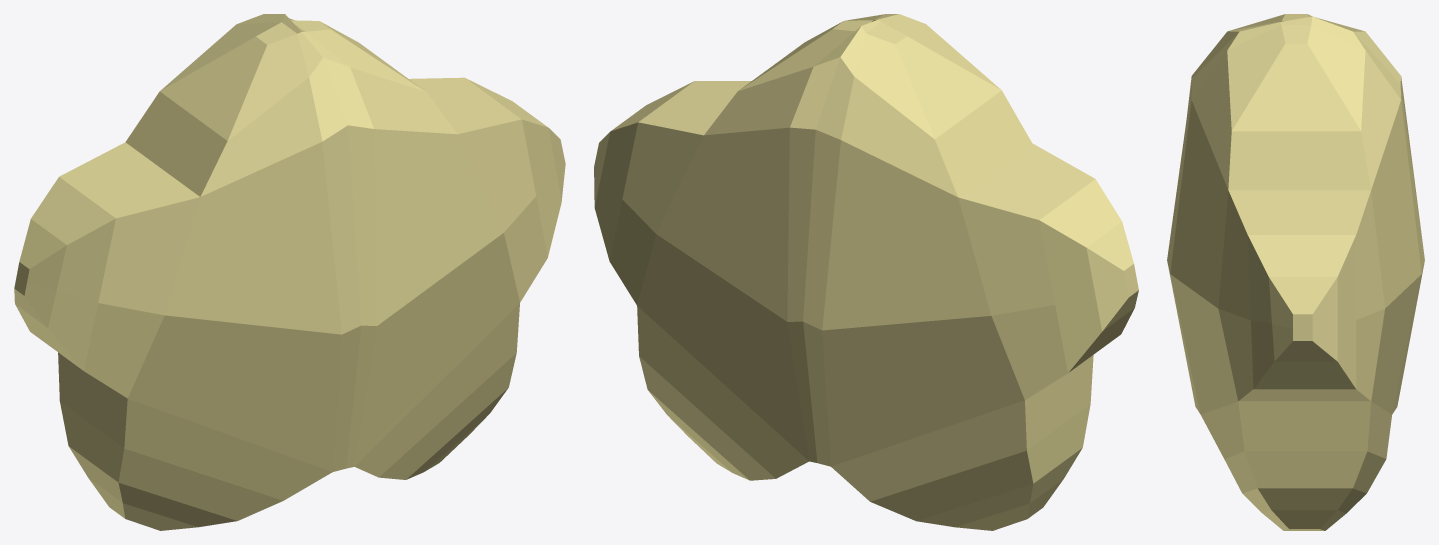
The model's file is star.fbx.
The picture shows the model from 3 angles, left to right: view 1: azimuth 30°, elevation 25°; view 2: azimuth 150°, elevation 25°; view 3: azimuth 270°, elevation 25°; orthographic projection. The views are drawn at different scales.
Parts seen in each view (by area): view 1: Cylinder; view 2: Cylinder; view 3: Cylinder.
Part boxes in pixels (x1,y1,x2,y2): Cylinder: (14, 14, 565, 530); Cylinder: (594, 14, 1138, 530); Cylinder: (1167, 14, 1424, 530).
Size of the model in its own units: 231 by 192 by 99.98.
